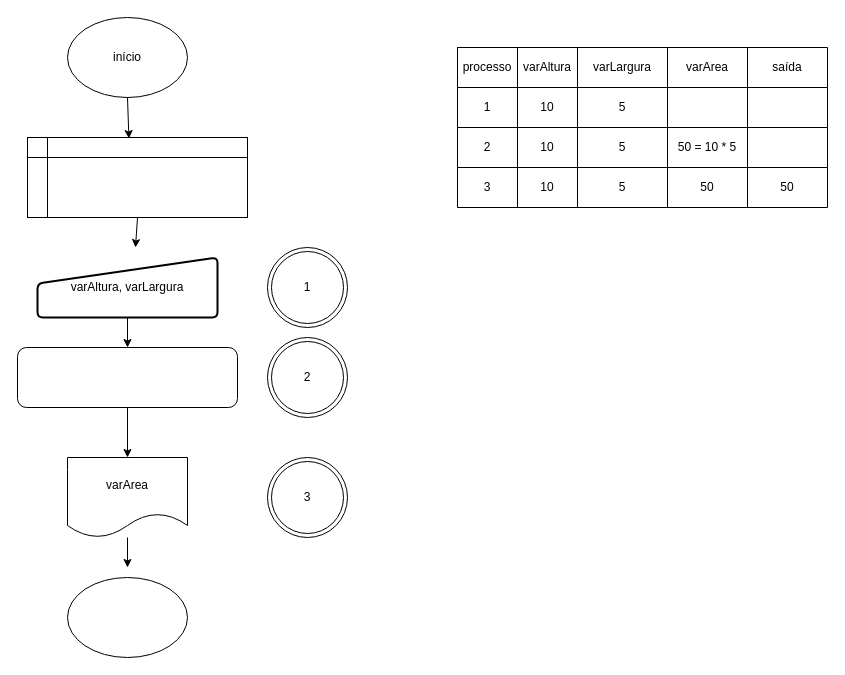
Image size: 845x675. Some labels were removed from this diagram. The shapes that lost their labels are listed below. From the top down, each one's box as (x1, y1, x2, y2) in pixels, then its label:
(26, 136, 248, 218): varAltura, varLArgura, varArea
(16, 346, 238, 408): varArea = varAltura * varLArgura
(66, 576, 188, 658): fim
